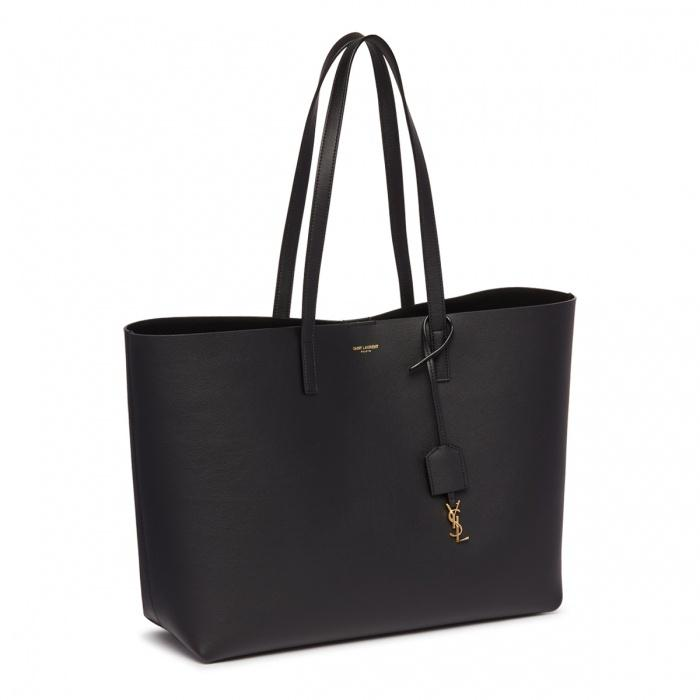YVES-SAINT-LAURENT: (446, 500, 469, 542)
